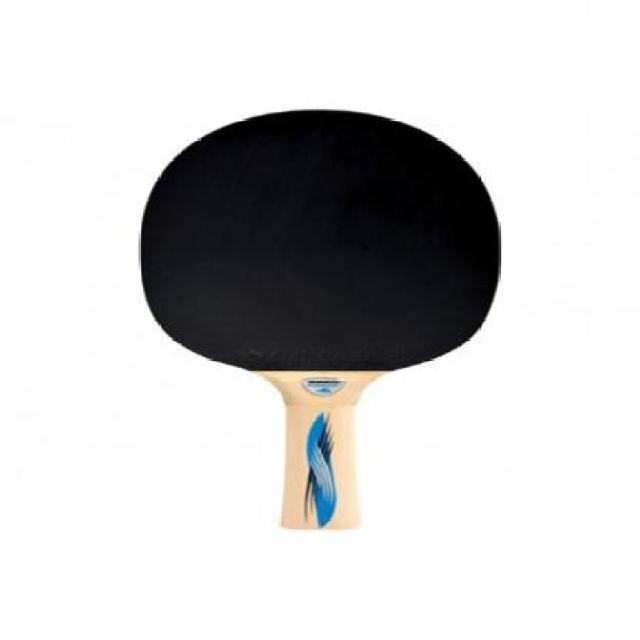table_tennis_racket: (124, 104, 516, 398)
